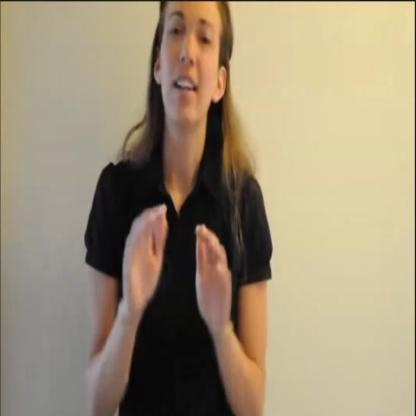HowAreYou: (106, 180, 248, 354)
